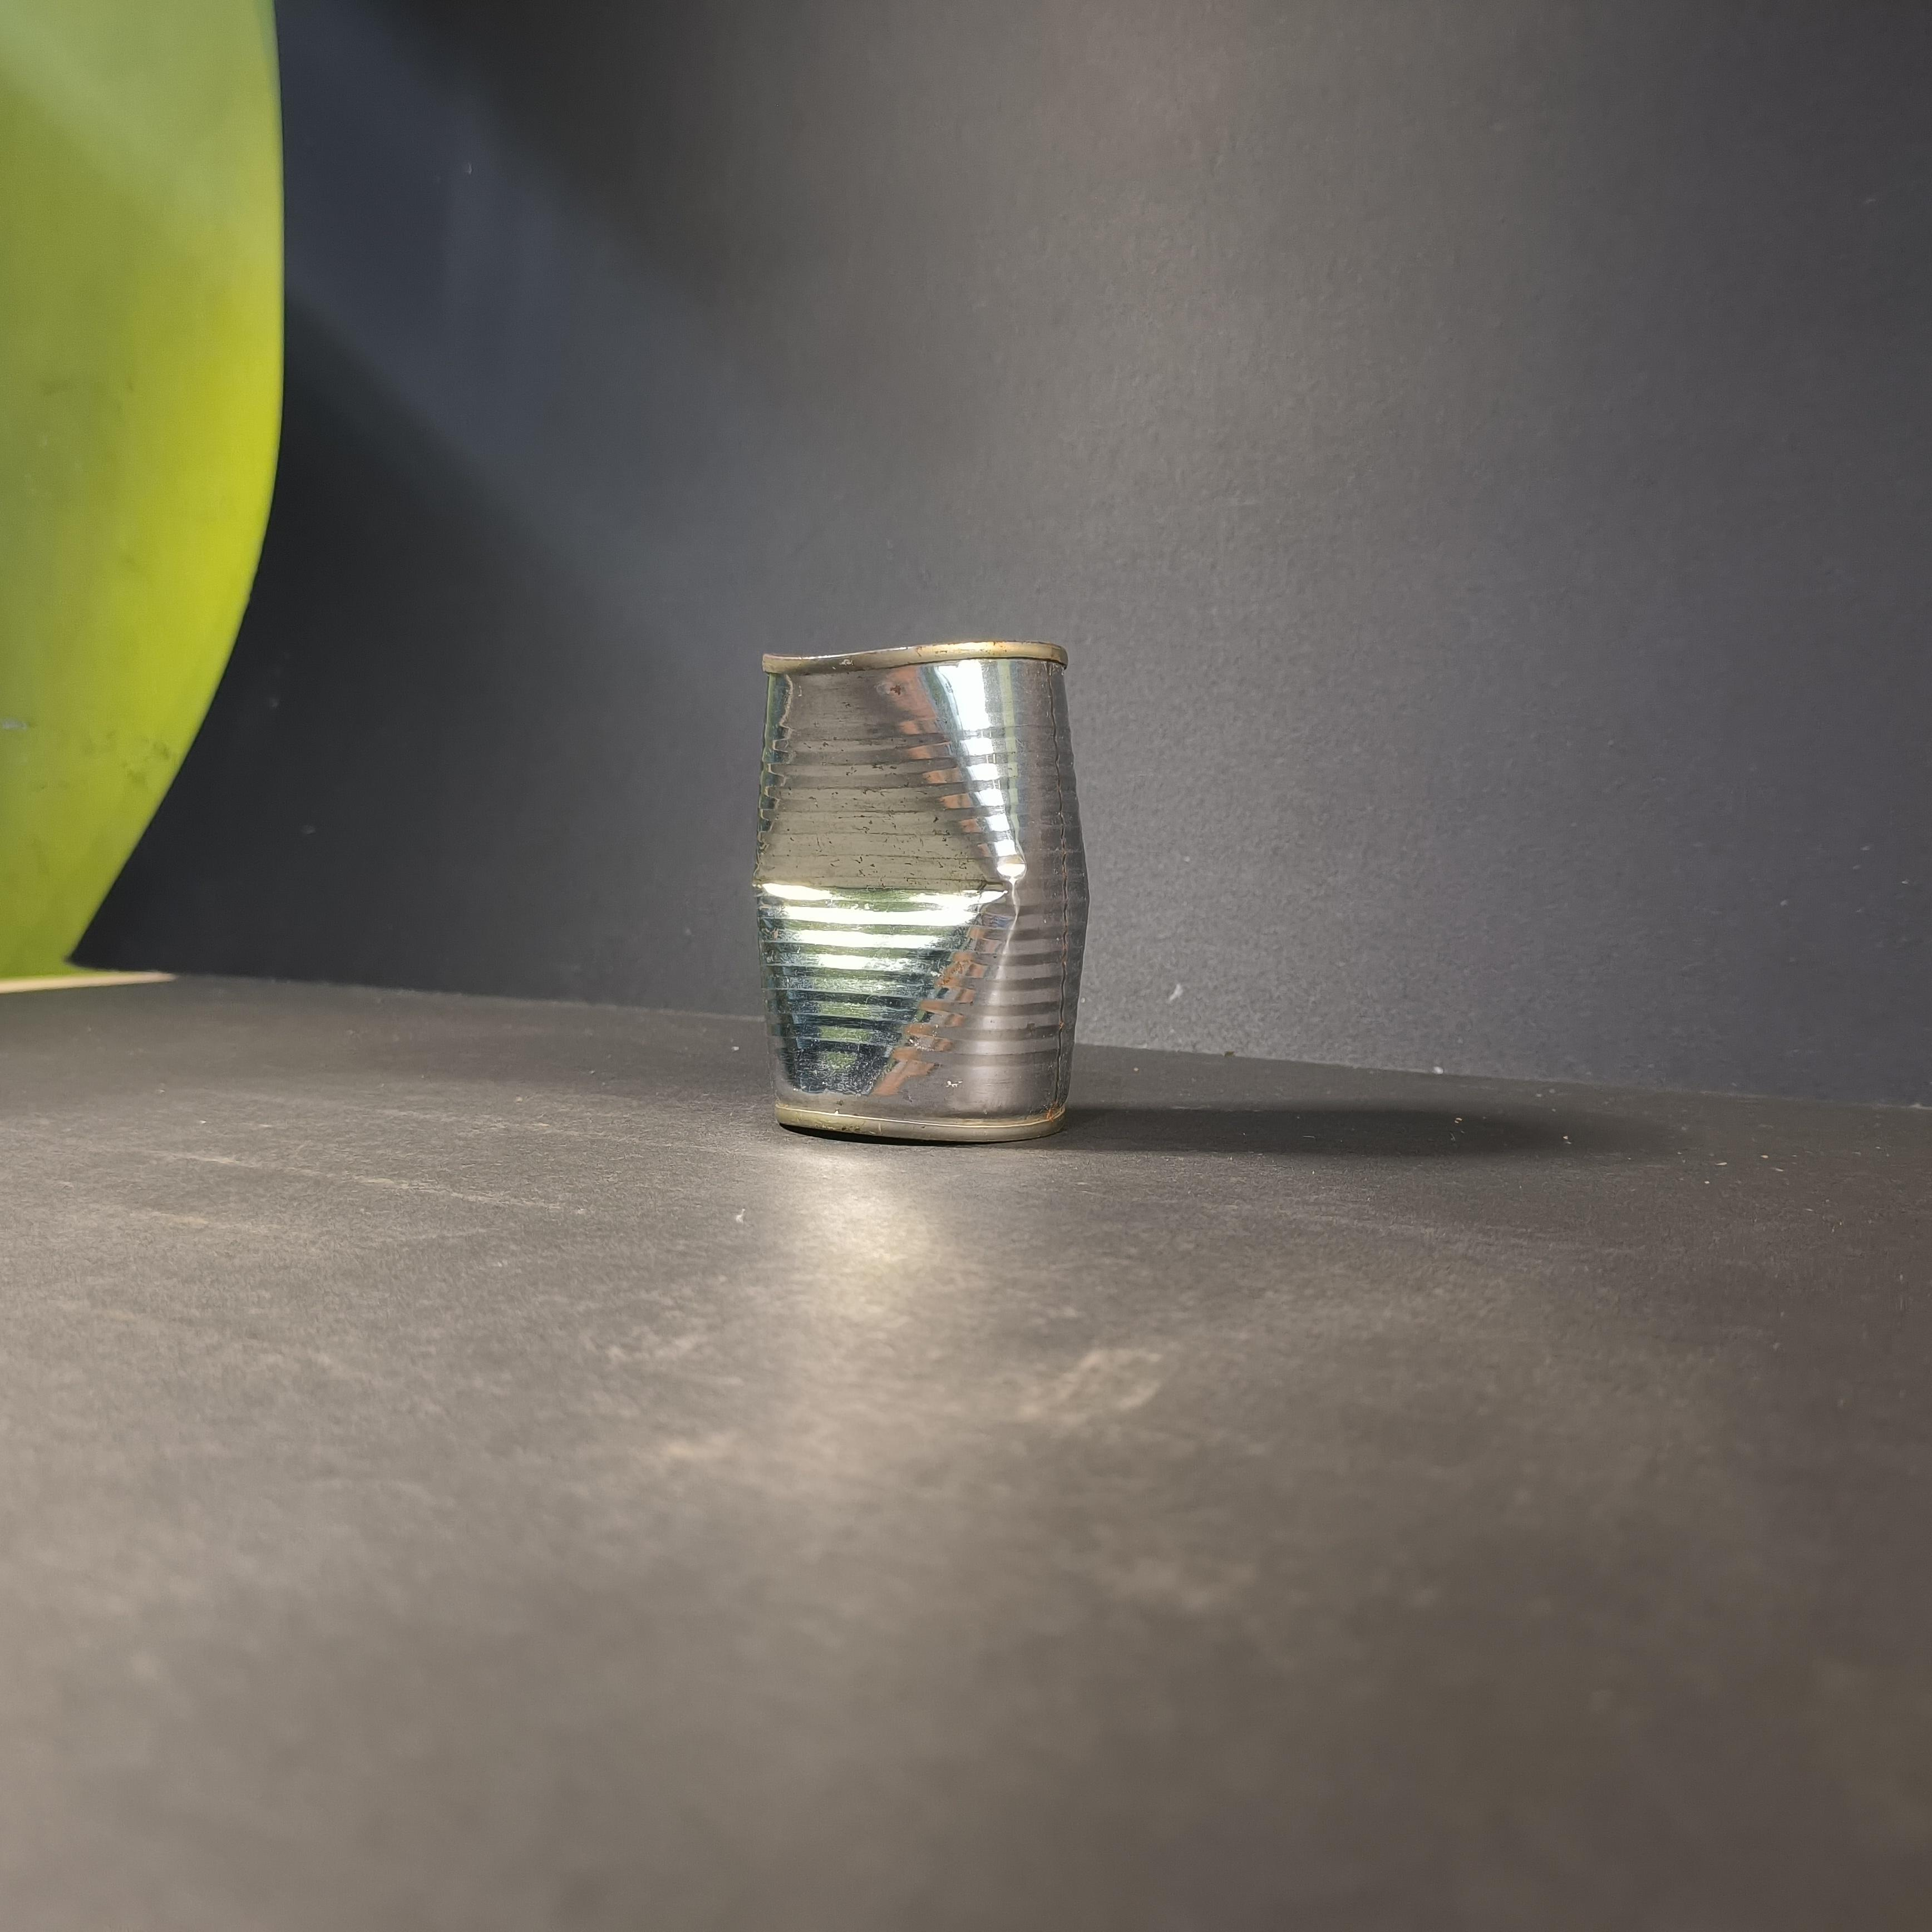Dented: (713, 602, 1108, 1157)
